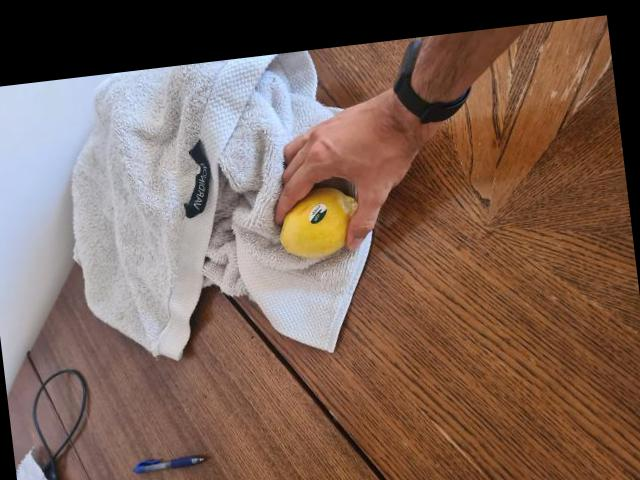lemon: (274, 177, 370, 262)
